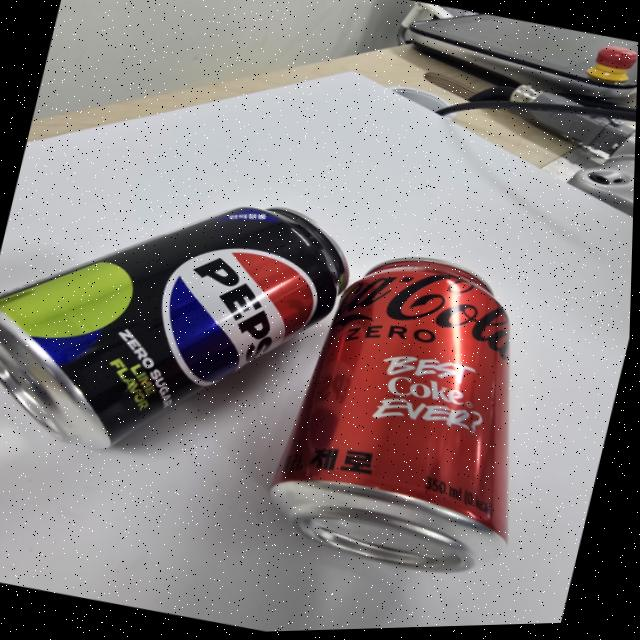can_coke_zero: (257, 256, 507, 580)
can_pepsi_zero: (0, 201, 349, 451)
